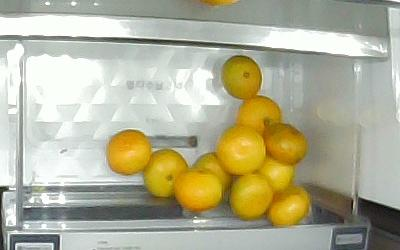tangerine: (217, 125, 267, 176), (104, 129, 151, 176), (144, 149, 188, 199), (236, 93, 284, 138), (176, 169, 222, 213), (230, 175, 274, 221), (221, 54, 263, 100), (266, 122, 310, 165), (192, 151, 231, 192), (259, 154, 295, 191), (268, 195, 307, 228)
